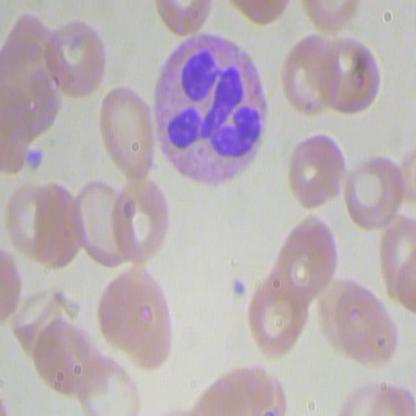Platelets: (24, 144, 47, 176), (228, 275, 248, 302)
RBC: (93, 82, 158, 185), (35, 312, 107, 404), (271, 213, 341, 307), (246, 262, 315, 355), (112, 168, 172, 264), (46, 9, 108, 98), (342, 139, 404, 228), (280, 28, 342, 116), (318, 28, 380, 116), (286, 125, 348, 213), (30, 179, 89, 268), (333, 284, 399, 363)
WBC: (144, 31, 270, 195)
